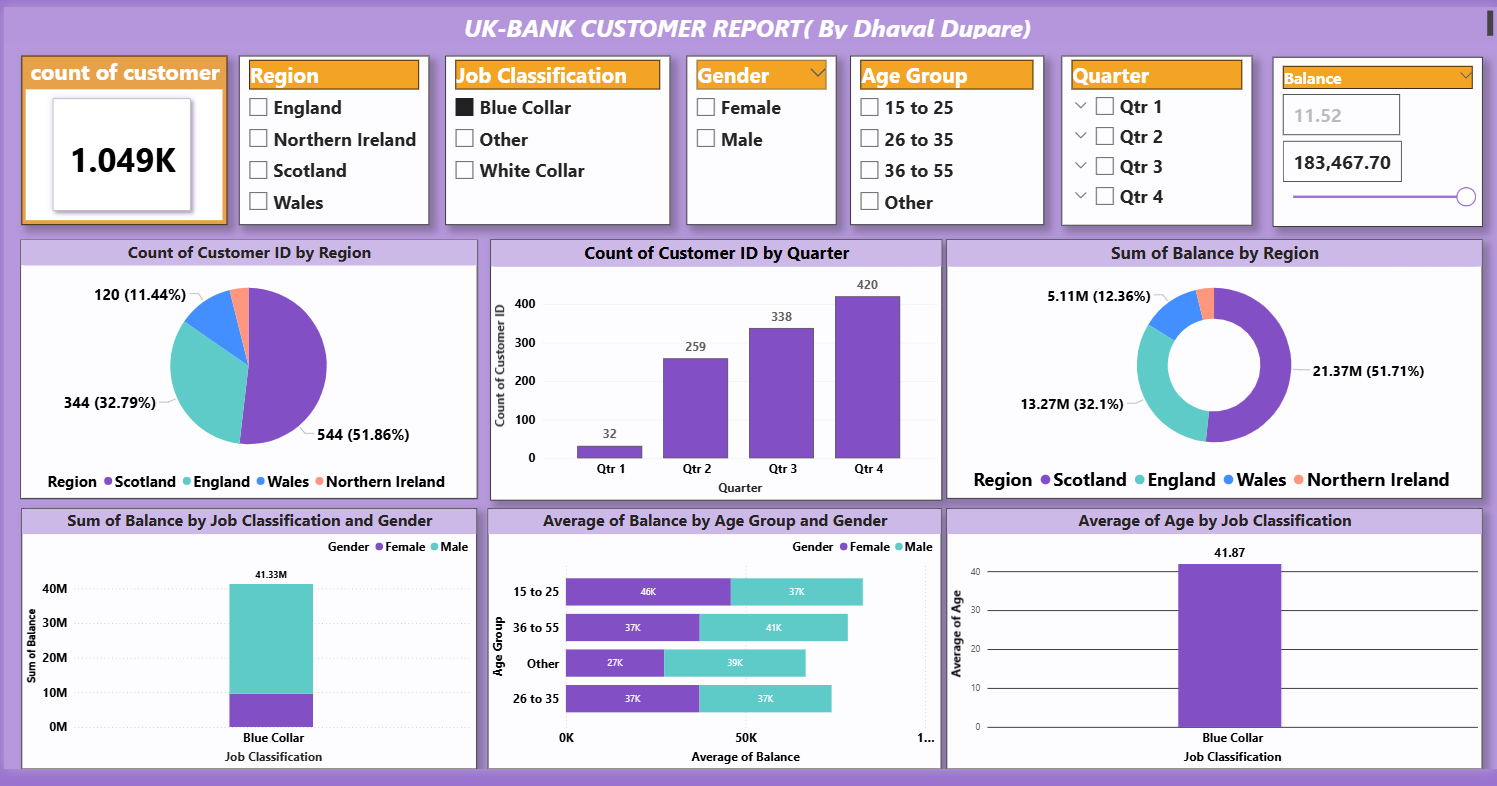

The dashboard page shown, as its layout file describes it:
{"tool":"powerbi","page":{"name":"Page 1","canvas":[1990,1016],"ordinal":0},"visuals":[{"type":"cardVisual","title":"count of customer","fields":{"Data":["CountNonNull(P6-UK-Bank-Customers (1).Customer ID)"]},"box":[23.3,65.1,274.4,225.6],"z":0},{"type":"slicer","fields":{"Values":["P6-UK-Bank-Customers (1).Age Group"]},"box":[1127.9,65.1,258.1,225.6],"z":1000},{"type":"slicer","fields":{"Values":["P6-UK-Bank-Customers (1).Balance"]},"box":[1692,66,280,226],"z":2000},{"type":"slicer","fields":{"Values":["P6-UK-Bank-Customers (1).Job Classification"]},"box":[588.4,65.1,300,225.6],"z":3000},{"type":"slicer","fields":{"Values":["P6-UK-Bank-Customers (1).Region"]},"box":[314,65.1,253.5,225.6],"z":4000},{"type":"slicer","fields":{"Values":["P6-UK-Bank-Customers (1).Gender"]},"box":[909.3,65.1,200,225.6],"z":5000},{"type":"slicer","fields":{"Values":["P6-UK-Bank-Customers (1).Date Joined.Variation.Date Hierarchy.Quarter","P6-UK-Bank-Customers (1).Date Joined.Variation.Date Hierarchy.Month","P6-UK-Bank-Customers (1).Date Joined.Variation.Date Hierarchy.Day"]},"box":[1409.5,64.3,254.8,226.2],"z":6000},{"type":"pieChart","fields":{"Category":["P6-UK-Bank-Customers (1).Region"],"Y":["CountNonNull(P6-UK-Bank-Customers (1).Customer ID)"]},"box":[21.4,309.5,609.5,345.2],"z":7000},{"type":"columnChart","fields":{"Y":["CountNonNull(P6-UK-Bank-Customers (1).Customer ID)"],"Category":["P6-UK-Bank-Customers (1).Date Joined.Variation.Date Hierarchy.Quarter","P6-UK-Bank-Customers (1).Date Joined.Variation.Date Hierarchy.Month","P6-UK-Bank-Customers (1).Date Joined.Variation.Date Hierarchy.Day"]},"box":[647.6,309.5,602.4,347.6],"z":8000},{"type":"donutChart","fields":{"Category":["P6-UK-Bank-Customers (1).Region"],"Y":["Sum(P6-UK-Bank-Customers (1).Balance)"]},"box":[1257.1,309.5,714.3,345.2],"z":9000},{"type":"columnChart","fields":{"Category":["P6-UK-Bank-Customers (1).Job Classification"],"Y":["Sum(P6-UK-Bank-Customers (1).Balance)"],"Series":["P6-UK-Bank-Customers (1).Gender"]},"box":[23.8,669,607.1,347.6],"z":10000},{"type":"barChart","fields":{"Y":["Avg(P6-UK-Bank-Customers (1).Balance)"],"Category":["P6-UK-Bank-Customers (1).Age Group"],"Series":["P6-UK-Bank-Customers (1).Gender"]},"box":[645.2,669,604.8,347.6],"z":11000},{"type":"columnChart","fields":{"Category":["P6-UK-Bank-Customers (1).Job Classification"],"Y":["Avg(P6-UK-Bank-Customers (1).Age)"]},"box":[1257.1,669,714.3,347.6],"z":12000},{"type":"textbox","box":[0,0,1990.5,47.6],"z":13000}]}

Visuals, with their boxes in screenshot pixels (x1, y1, x2, y2), scaled from the page's 1990x1016 canvas onto the 1497x786 screenshot:
"count of customer" cardVisual: rect(18, 50, 224, 225)
slicer - P6-UK-Bank-Customers (1).Age Group: rect(848, 50, 1043, 225)
slicer - P6-UK-Bank-Customers (1).Balance: rect(1273, 51, 1483, 226)
slicer - P6-UK-Bank-Customers (1).Job Classification: rect(443, 50, 668, 225)
slicer - P6-UK-Bank-Customers (1).Region: rect(236, 50, 427, 225)
slicer - P6-UK-Bank-Customers (1).Gender: rect(684, 50, 834, 225)
slicer - P6-UK-Bank-Customers (1).Date Joined.Variation.Date Hierarchy.Quarter x P6-UK-Bank-Customers (1).Date Joined.Variation.Date Hierarchy.Month: rect(1060, 50, 1252, 225)
pieChart - P6-UK-Bank-Customers (1).Region x CountNonNull(P6-UK-Bank-Customers (1).Customer ID): rect(16, 239, 475, 506)
columnChart - CountNonNull(P6-UK-Bank-Customers (1).Customer ID) x P6-UK-Bank-Customers (1).Date Joined.Variation.Date Hierarchy.Quarter: rect(487, 239, 940, 508)
donutChart - P6-UK-Bank-Customers (1).Region x Sum(P6-UK-Bank-Customers (1).Balance): rect(946, 239, 1483, 506)
columnChart - P6-UK-Bank-Customers (1).Job Classification x Sum(P6-UK-Bank-Customers (1).Balance): rect(18, 518, 475, 785)
barChart - Avg(P6-UK-Bank-Customers (1).Balance) x P6-UK-Bank-Customers (1).Age Group: rect(485, 518, 940, 785)
columnChart - P6-UK-Bank-Customers (1).Job Classification x Avg(P6-UK-Bank-Customers (1).Age): rect(946, 518, 1483, 785)
textbox: rect(0, 0, 1496, 37)
